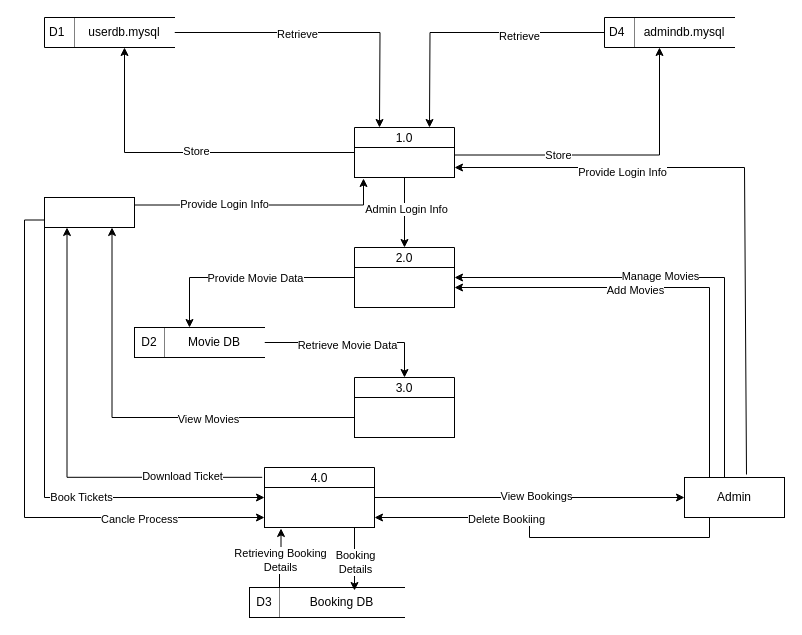
The diagram is 802 pixels wide and 635 high, and some of its shapes have lost their labels. Here are the shapes that lost their labels. From the top down, the centre of each, then its label:
pixel 404 162: login.php register.php
pixel 89 212: User
pixel 404 287: addmovies.php
pixel 404 417: index.php
pixel 319 507: booking.php
